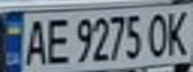2: (90, 12, 112, 63)
5: (124, 11, 148, 60)
7: (109, 11, 127, 62)
9: (72, 13, 93, 64)
A: (21, 15, 48, 66)
E: (42, 14, 72, 65)
K: (163, 7, 193, 56)
O: (145, 9, 172, 58)
